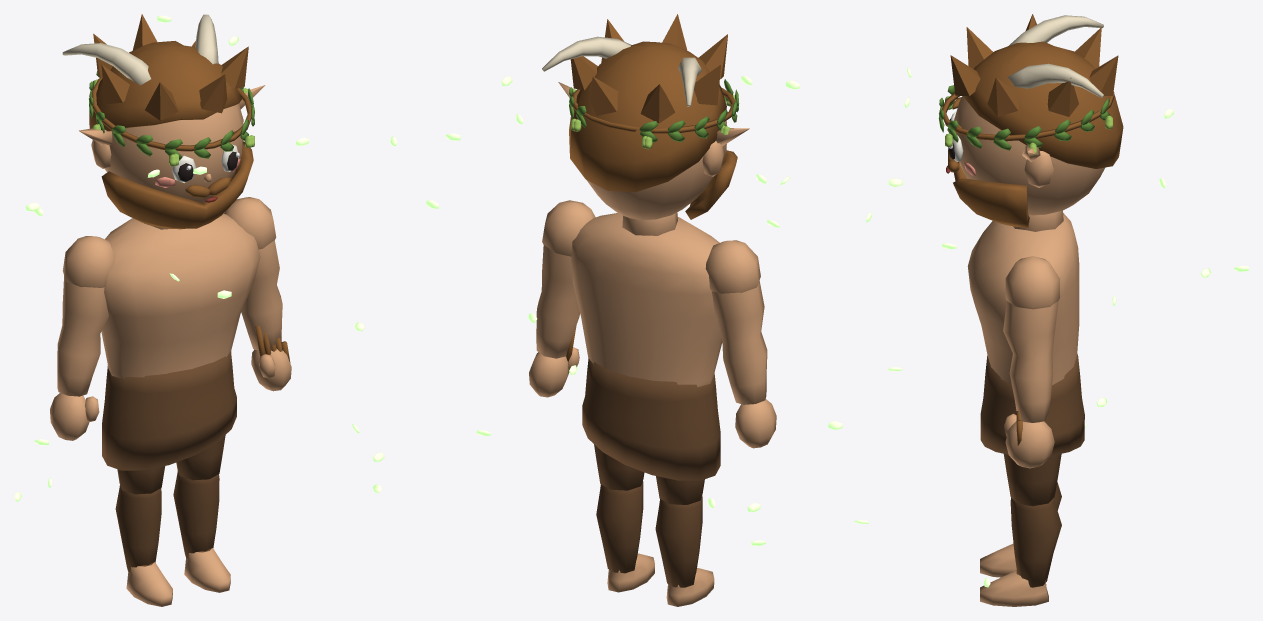
The model's file is pan.glb.
The picture shows the model from 3 angles, left to right: view 1: azimuth 30°, elevation 25°; view 2: azimuth 150°, elevation 25°; view 3: azimuth 270°, elevation 25°; orthographic projection. The views are drawn at different scales.
Visible parts, largest first — view 1: rumpf, huefte, haare, armL, kopf, armR, bart, knieR, knieL, kopfschmuck2, kopfschmuck, beinR (+1 smaller); view 2: rumpf, haare, huefte, armL, armR, kopf, knieR, knieL, kopfschmuck2, kopfschmuck, beinR, bart (+1 smaller); view 3: haare, rumpf, armR, kopf, knieR, huefte, kopfschmuck, bart, kopfschmuck2, beinR, knieL.
Boxes of the visible parts, x1=… form: rumpf: x1=101, y1=213, x2=260, y2=379; huefte: x1=102, y1=351, x2=236, y2=470; haare: x1=89, y1=14, x2=248, y2=131; armL: x1=50, y1=236, x2=115, y2=440; kopf: x1=91, y1=103, x2=243, y2=229; armR: x1=224, y1=197, x2=291, y2=391; bart: x1=101, y1=141, x2=253, y2=229; knieR: x1=173, y1=471, x2=230, y2=592; knieL: x1=115, y1=485, x2=172, y2=606; kopfschmuck2: x1=89, y1=71, x2=254, y2=166; kopfschmuck: x1=62, y1=14, x2=265, y2=145; beinR: x1=176, y1=435, x2=225, y2=480; rumpf: x1=571, y1=213, x2=722, y2=387; haare: x1=569, y1=14, x2=727, y2=192; huefte: x1=582, y1=358, x2=720, y2=480; armL: x1=705, y1=240, x2=776, y2=448; armR: x1=529, y1=200, x2=595, y2=397; kopf: x1=586, y1=120, x2=726, y2=235; knieR: x1=596, y1=481, x2=654, y2=592; knieL: x1=655, y1=495, x2=714, y2=606; kopfschmuck2: x1=569, y1=79, x2=739, y2=149; kopfschmuck: x1=542, y1=36, x2=749, y2=146; beinR: x1=594, y1=444, x2=644, y2=490; bart: x1=685, y1=150, x2=737, y2=219; haare: x1=950, y1=14, x2=1123, y2=168; rumpf: x1=967, y1=213, x2=1079, y2=385; armR: x1=1003, y1=256, x2=1059, y2=468; kopf: x1=954, y1=96, x2=1104, y2=231; knieR: x1=980, y1=498, x2=1061, y2=606; huefte: x1=980, y1=354, x2=1084, y2=455; kopfschmuck: x1=1007, y1=15, x2=1103, y2=161; bart: x1=948, y1=149, x2=1029, y2=227; kopfschmuck2: x1=938, y1=85, x2=1114, y2=156; beinR: x1=1003, y1=453, x2=1061, y2=506; knieL: x1=980, y1=482, x2=1061, y2=577.
Size of the model in its own units: 1.47 by 2.3 by 1.62.
